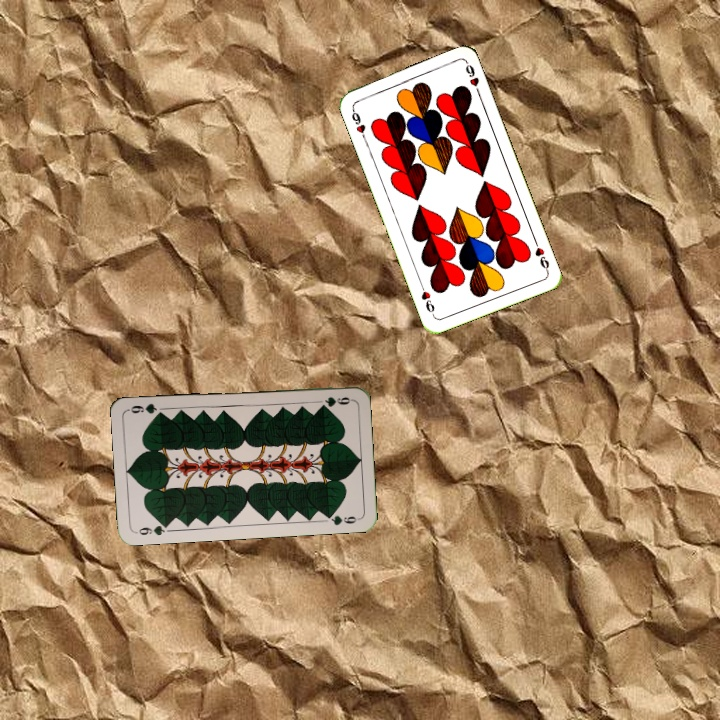G9: (132, 519, 172, 538), (313, 393, 354, 408)
H9: (530, 235, 552, 274), (347, 103, 369, 142)
